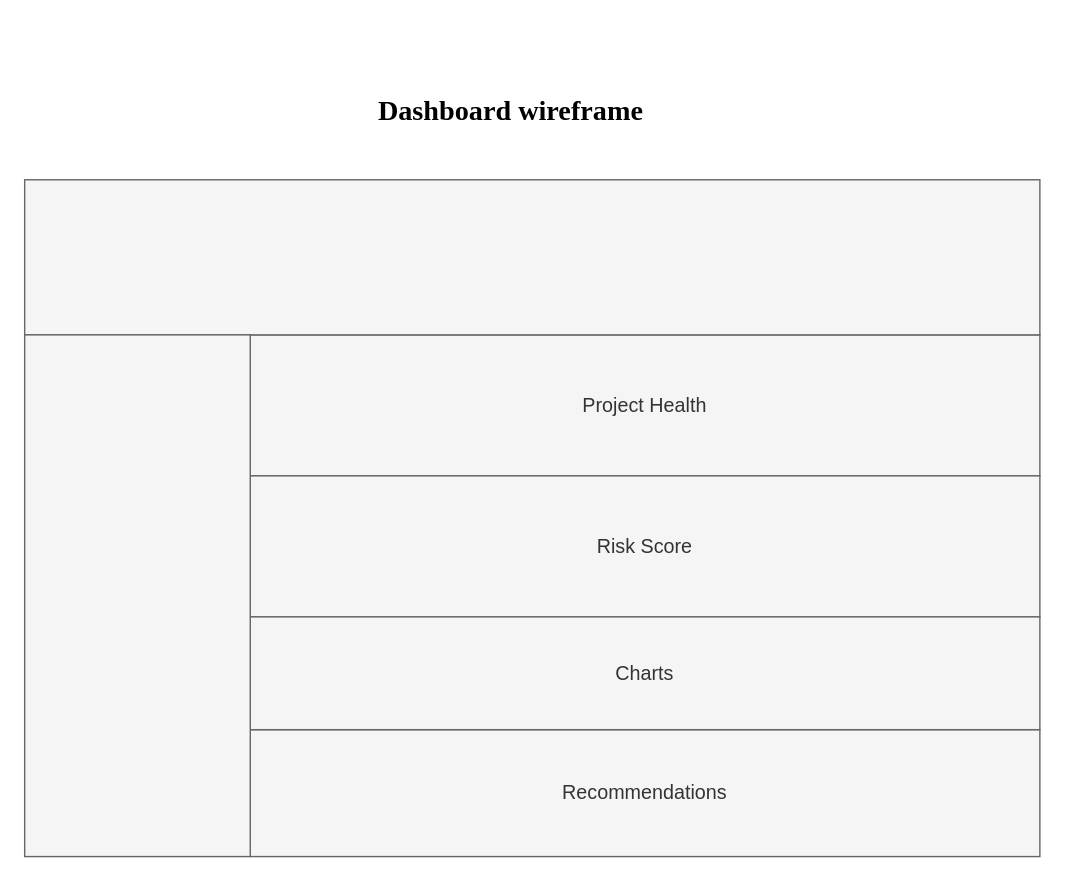
This 1065x881 diagram has some shape labels left out. Here are the shapes that lost their labels. From the top down, the box of each, then its label:
(23, 178, 1040, 335): Top Naviagtion
(23, 333, 250, 857): Sidebar
